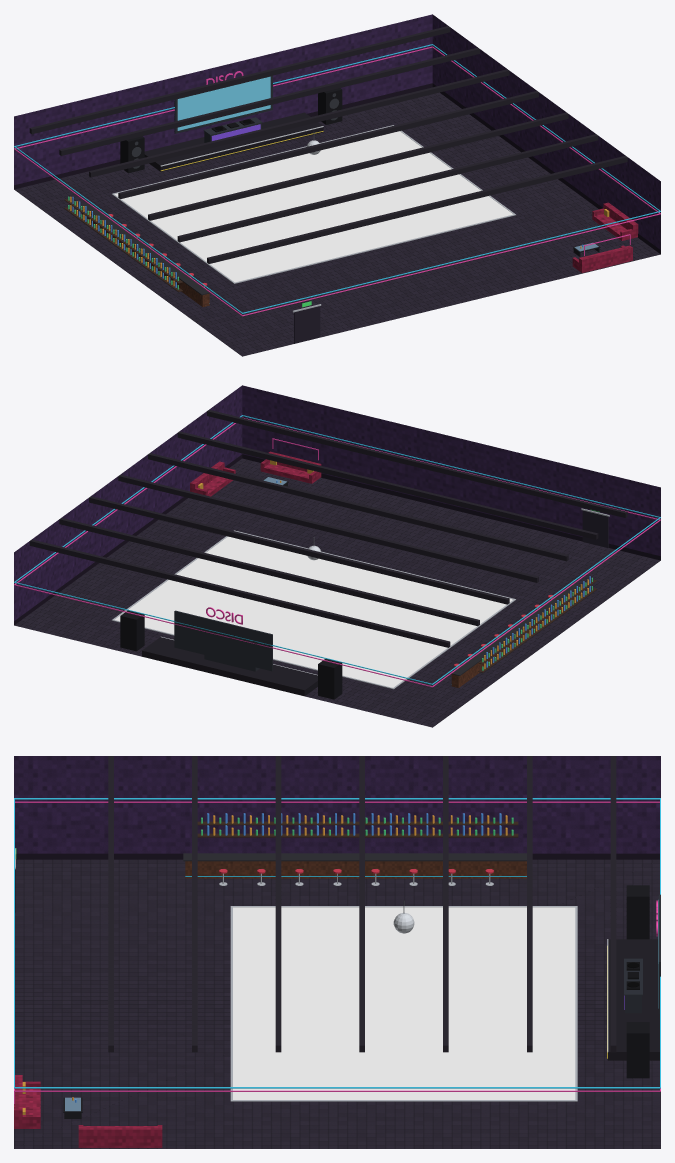
Rendered from disco.glb.
The picture shows the model from 3 angles, top to bottom: view 1: azimuth 30°, elevation 25°; view 2: azimuth 150°, elevation 25°; view 3: azimuth 270°, elevation 25°; orthographic projection. The views are drawn at different scales.
Parts seen in each view (by area): view 1: piso, muro, pista, viga, escenario, pantalla, neon_rosa, neon_azul, sofa, zocalo, pista_borde, parlante (+6 smaller); view 2: piso, muro, pista, viga, cabina, escenario, zocalo, neon_azul, neon_rosa, parlante, sofa, pista_borde (+5 smaller); view 3: piso, pista, muro, viga, barra, escenario, neon_azul, sofa, barra_top, parlante, repisa, neon_rosa (+6 smaller).
Part boxes in pixels (x1,y1,x2,y2): piso: [14, 92, 660, 356]; muro: [14, 14, 660, 249]; pista: [114, 131, 513, 282]; viga: [29, 26, 627, 263]; escenario: [144, 112, 323, 171]; pantalla: [177, 76, 270, 130]; neon_rosa: [14, 46, 660, 316]; neon_azul: [14, 44, 660, 313]; sofa: [572, 202, 638, 272]; zocalo: [14, 83, 660, 254]; pista_borde: [112, 125, 515, 312]; parlante: [120, 88, 342, 173]; piso: [14, 458, 660, 727]; muro: [14, 385, 660, 620]; pista: [114, 536, 513, 687]; viga: [29, 409, 627, 647]; cabina: [174, 610, 272, 671]; escenario: [142, 637, 317, 696]; zocalo: [14, 454, 660, 625]; neon_azul: [14, 415, 660, 684]; neon_rosa: [14, 417, 660, 687]; parlante: [120, 610, 342, 699]; sofa: [190, 451, 321, 496]; pista_borde: [111, 508, 609, 689]; piso: [14, 859, 660, 1148]; pista: [233, 907, 575, 1099]; muro: [14, 756, 660, 853]; viga: [108, 756, 616, 1052]; barra: [185, 861, 526, 878]; escenario: [607, 939, 659, 1060]; neon_azul: [14, 798, 660, 1088]; sofa: [14, 1075, 162, 1147]; barra_top: [183, 853, 526, 861]; parlante: [626, 885, 649, 1078]; repisa: [197, 821, 518, 837]; neon_rosa: [14, 801, 660, 1103].
Size of the model in its own units: 36 by 6 by 34.
Materials: 36 (4 with a texture image).
